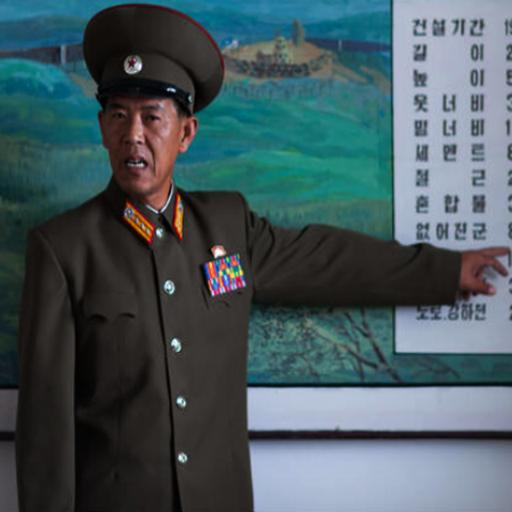north army: (20, 15, 433, 512)
